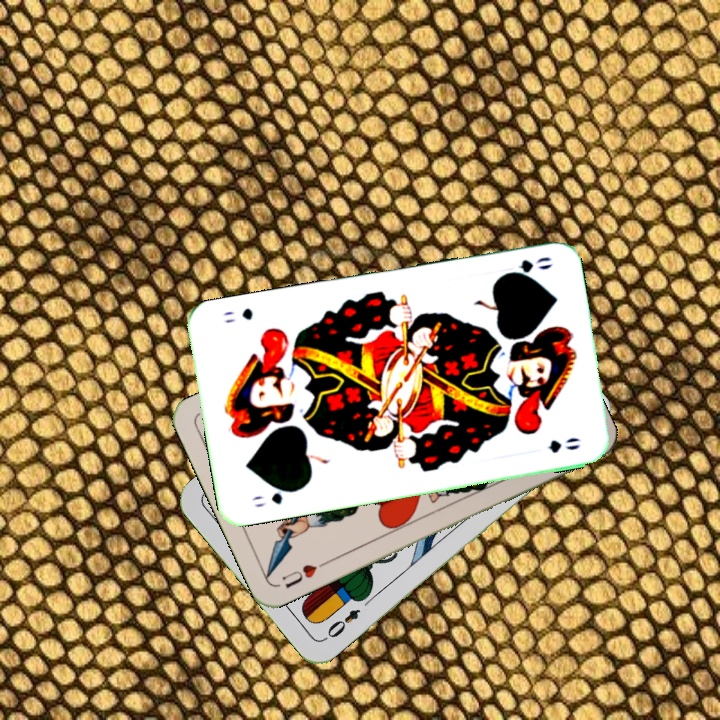EO: (319, 604, 363, 644)
GO: (497, 252, 555, 280), (247, 484, 300, 510)
HU: (277, 556, 330, 591)
